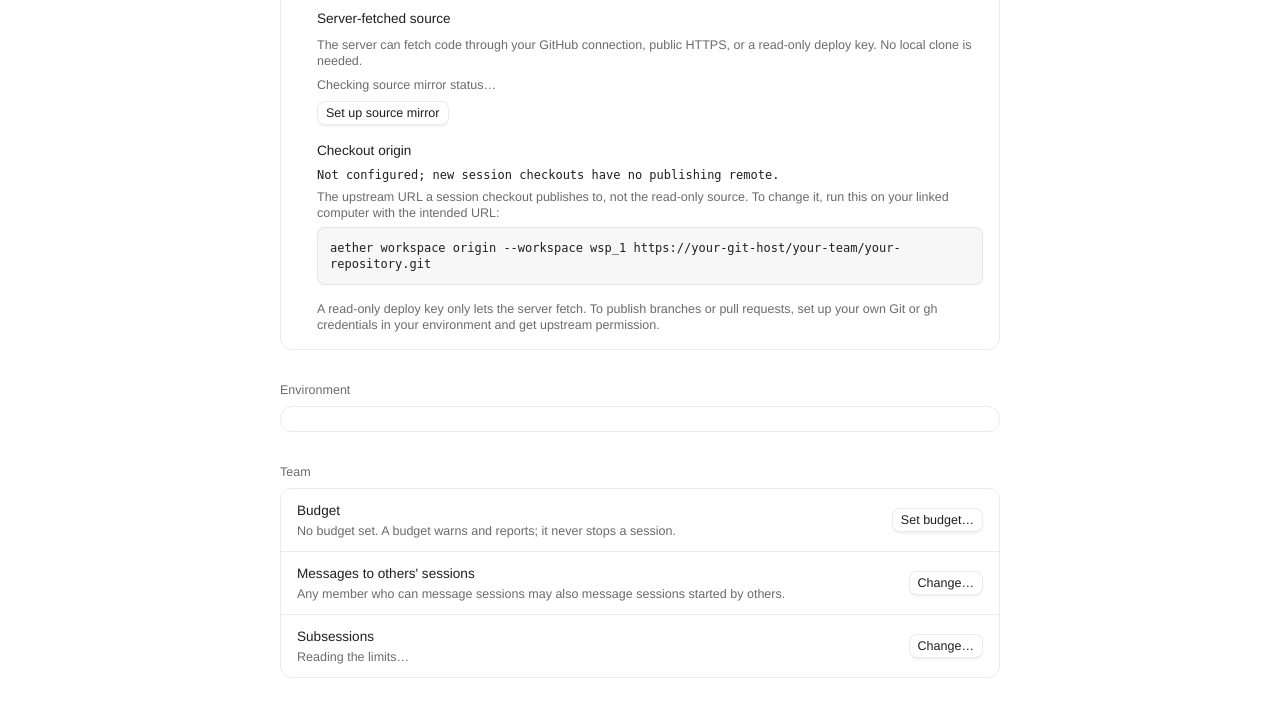
Test: repository page › opens the budget dialog for an admin
(page scrolled)
expect the 10th text "No budget set. A budget warns and reports; it never stops a session." is shown: met, box [297, 523, 676, 539]
Click the 3rd button named "Set budget…" at (937, 520), box [892, 508, 983, 532]
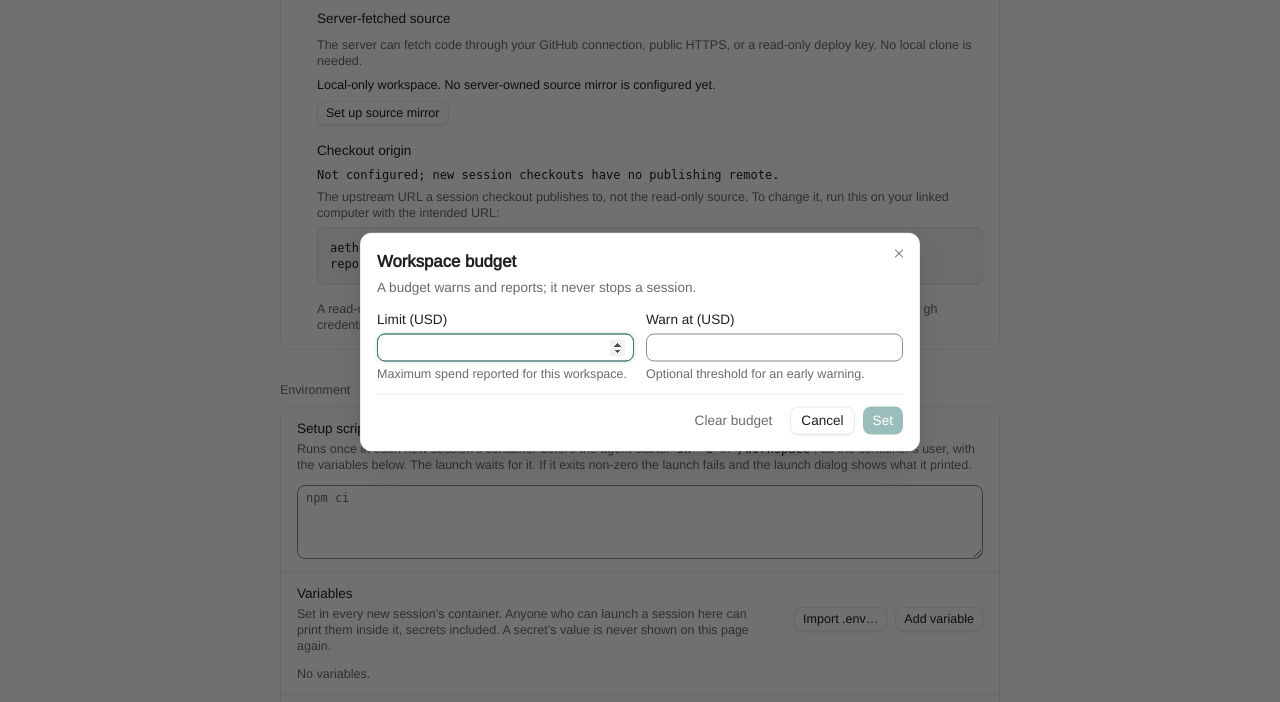
expect the dialog named "Workspace budget" is shown: met, box [360, 232, 920, 452]
